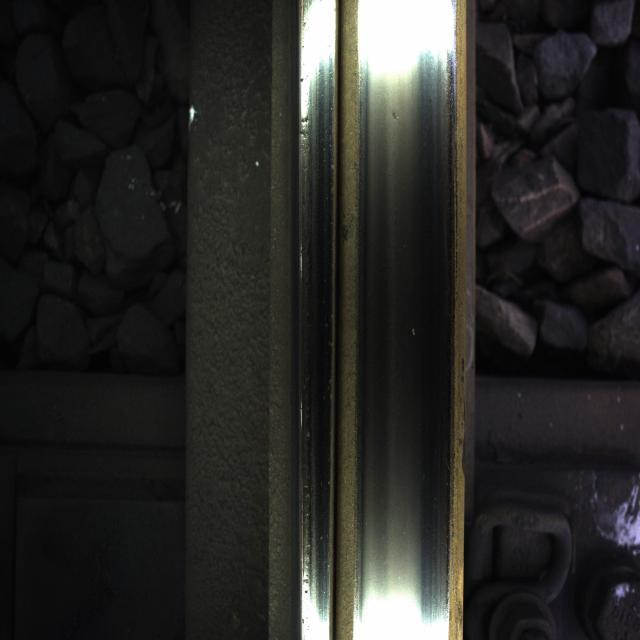break: (371, 35, 444, 624)
